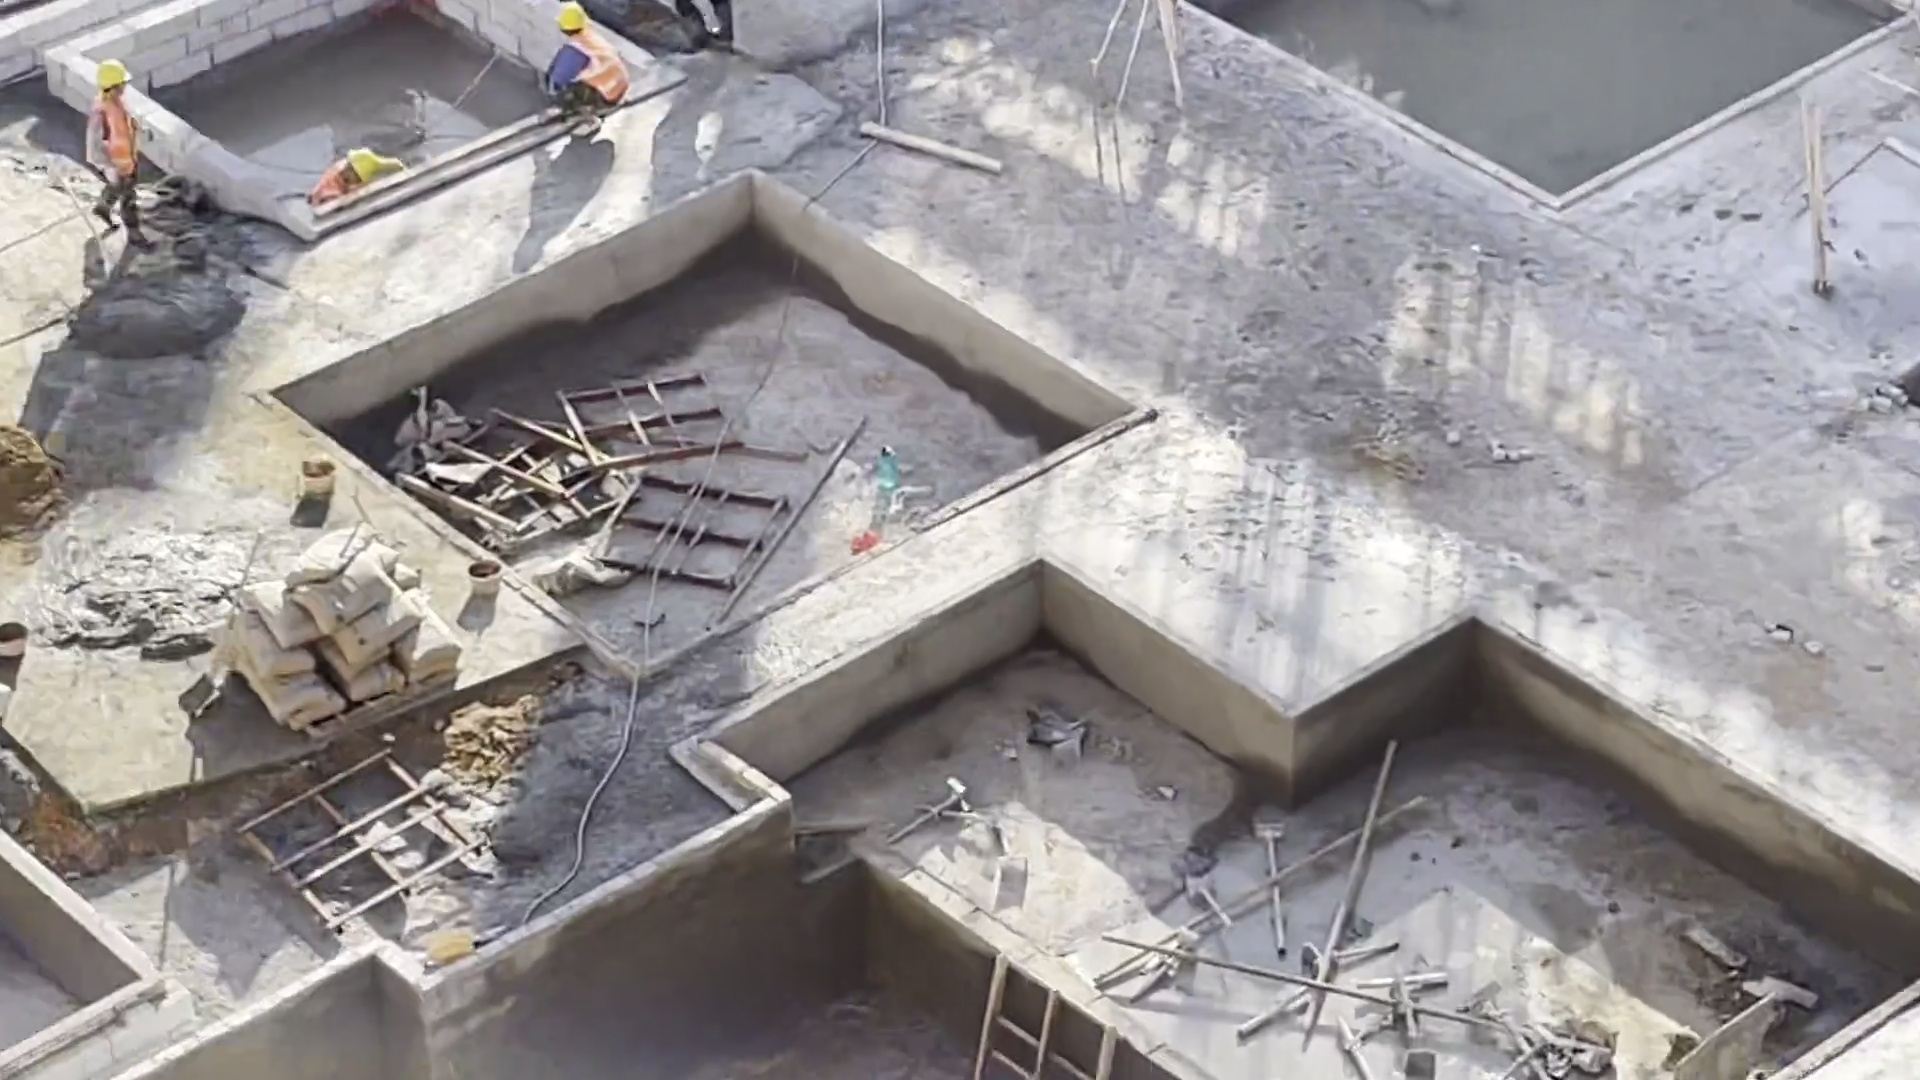helmet: (86, 50, 134, 93), (546, 5, 586, 31), (352, 150, 374, 187)
person: (69, 46, 156, 222), (544, 1, 637, 146), (300, 139, 407, 209)
vest: (548, 30, 627, 105), (89, 94, 133, 176)
